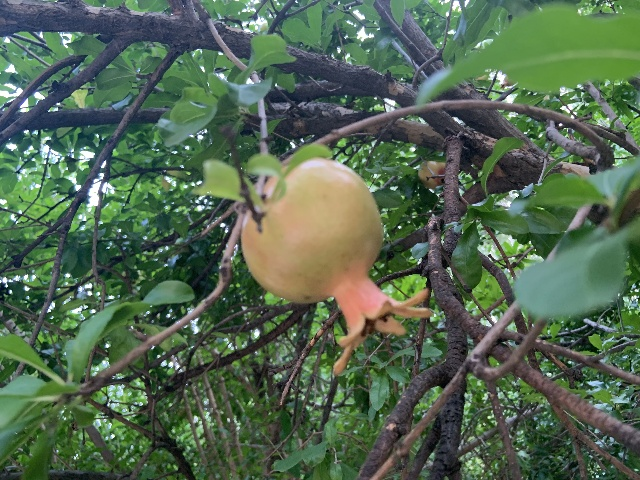mid-growth: (240, 157, 433, 374)
